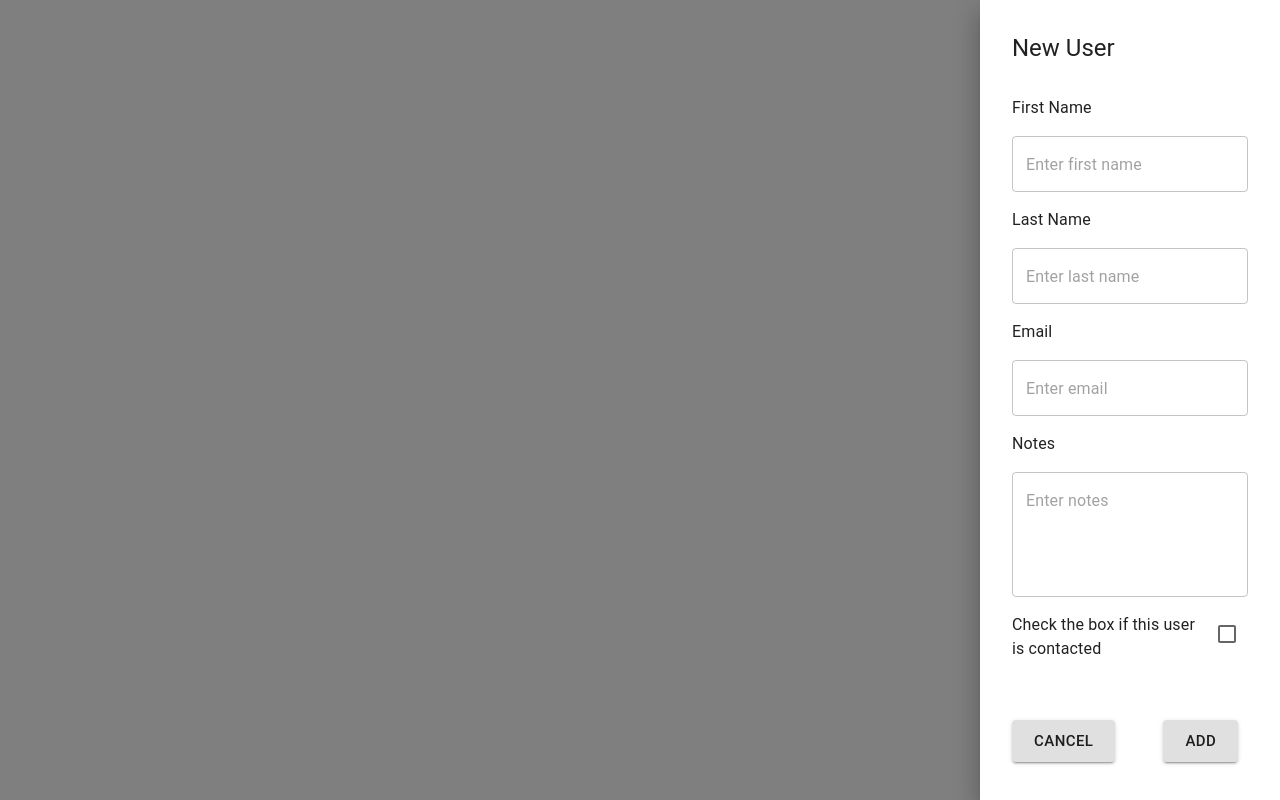
Test case: add new user drawer › 1 warning message should displayed when submitting form with first name and email
Type "Harry" into the field with placeholder "Enter first name". click: point(1130, 164)
box: [1012,136,1248,192]
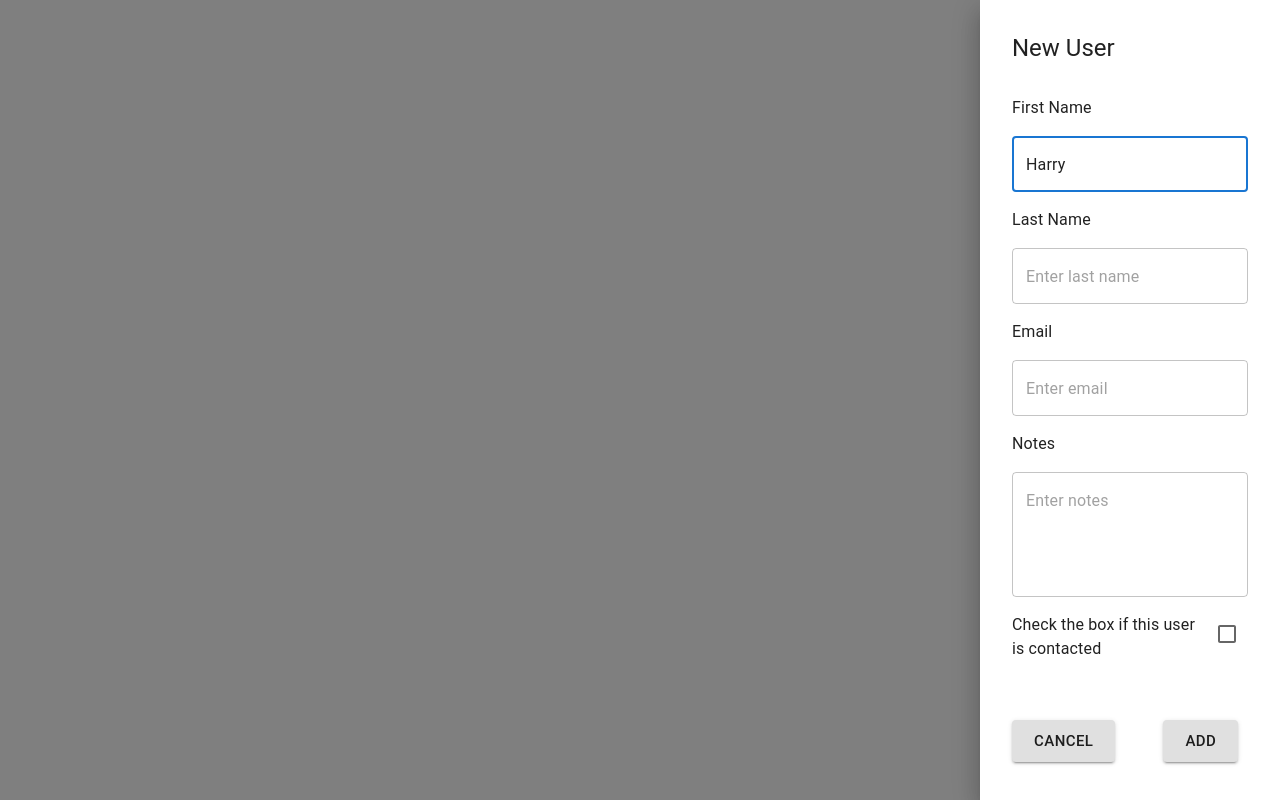
Type "test@test.com" into the field with placeholder "Enter email". click: point(1130, 388)
box: [1012,360,1248,416]
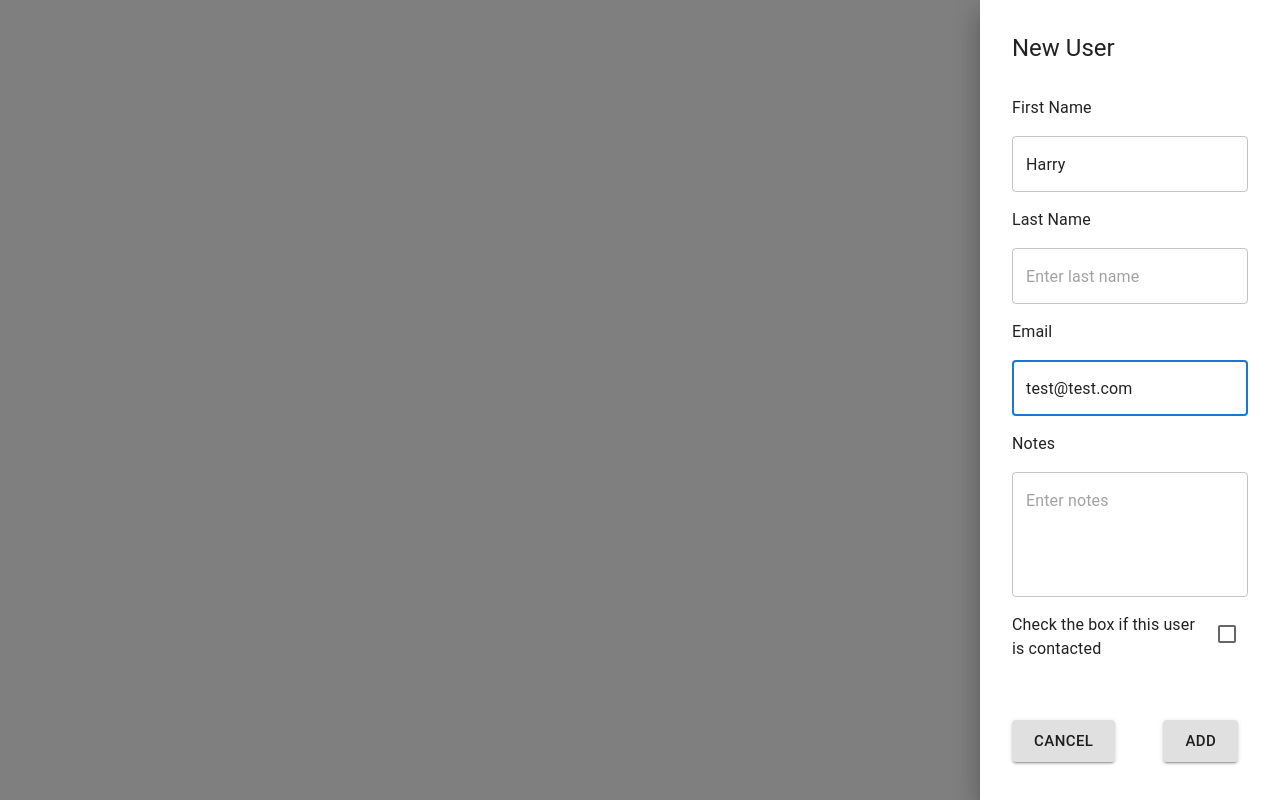
Click the button with test id "add-new-user-button". click: point(1201, 741)
box: [1163,720,1238,762]
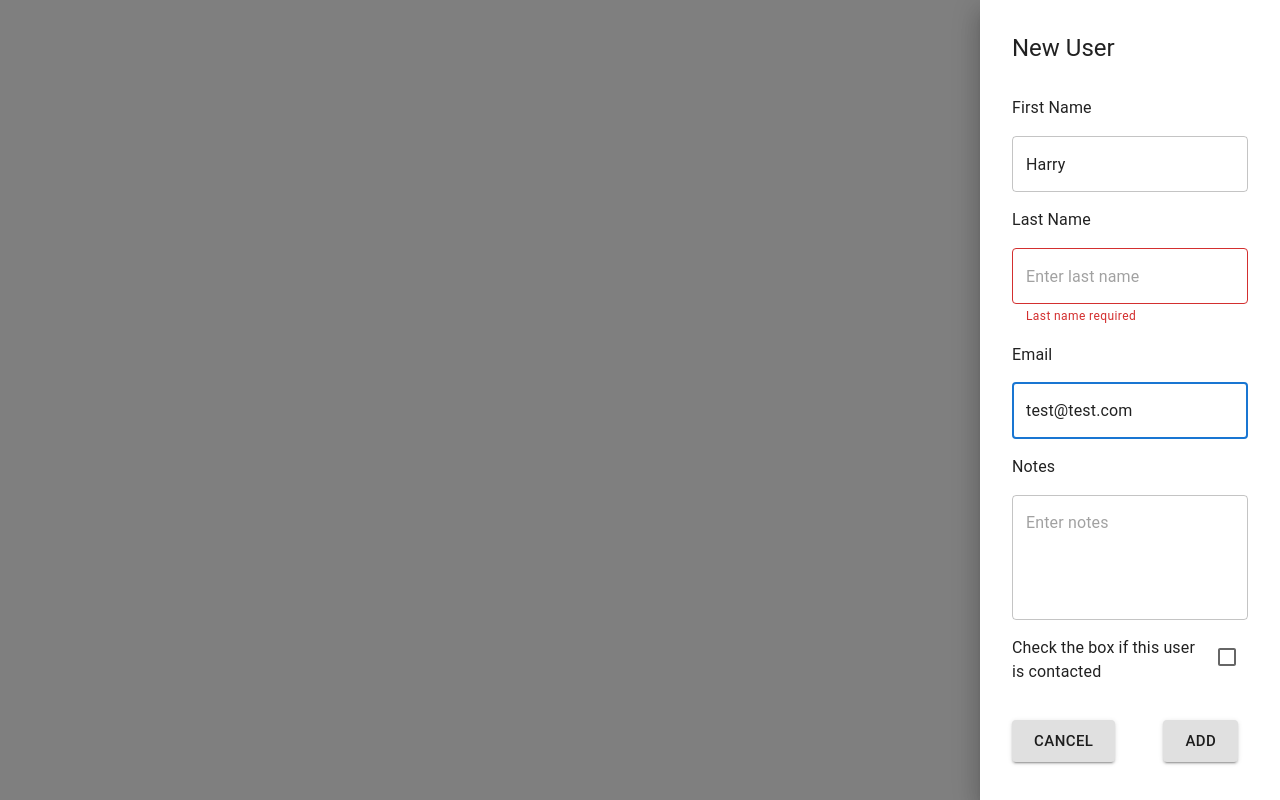
Expected: the text "Last name required" is shown, [1026,309,1136,323]
